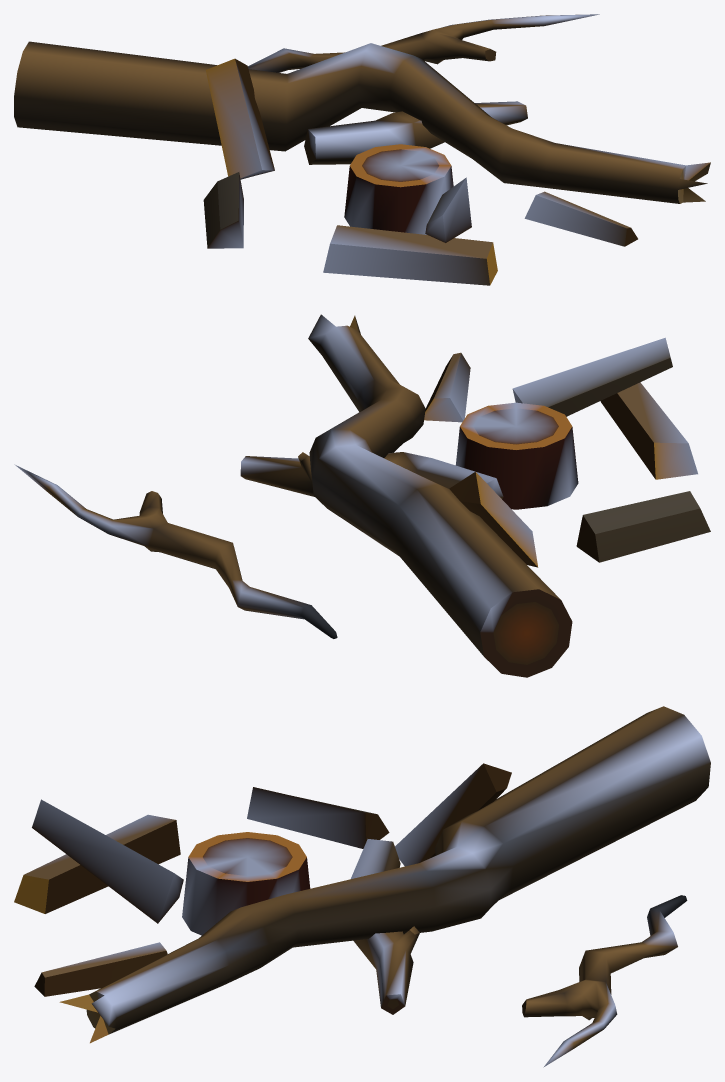
File: Log_03.fbx
The picture shows the model from 3 angles, top to bottom: view 1: azimuth 30°, elevation 25°; view 2: azimuth 150°, elevation 25°; view 3: azimuth 270°, elevation 25°; orthographic projection. The views are drawn at different scales.
Visible parts, largest first — view 1: Log_03; view 2: Log_03; view 3: Log_03.
Part boxes in pixels (box(x1,y1,x2,y2)): Log_03: box(14, 14, 710, 285); Log_03: box(14, 314, 710, 677); Log_03: box(14, 706, 710, 1067).
Size of the model in its own units: 3145 by 554 by 2983.
